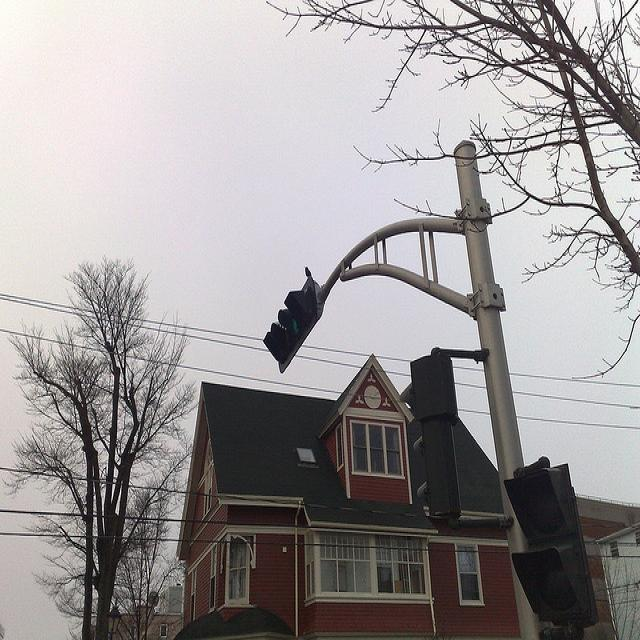pole: (453, 140, 549, 636)
